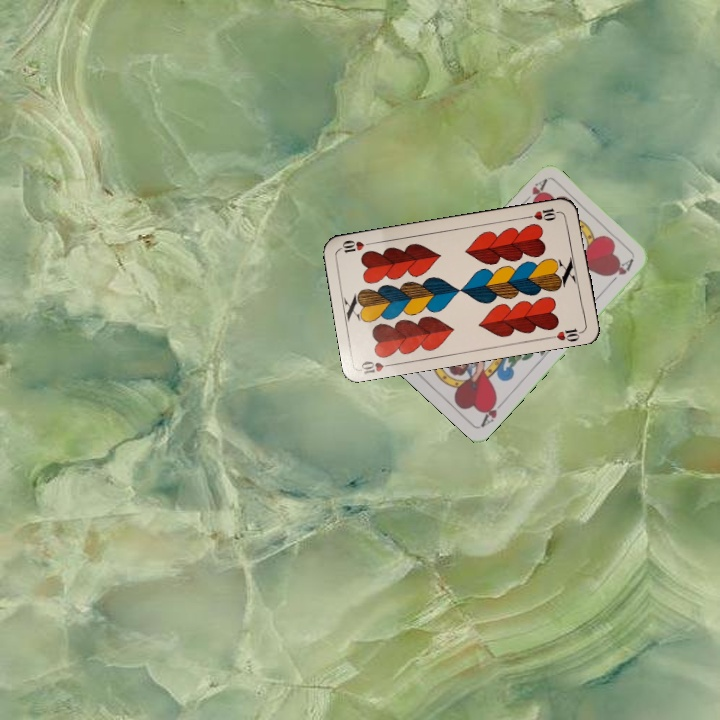H10: (357, 357, 398, 376), (523, 204, 563, 223)
HA: (477, 394, 508, 429), (517, 175, 549, 208)
